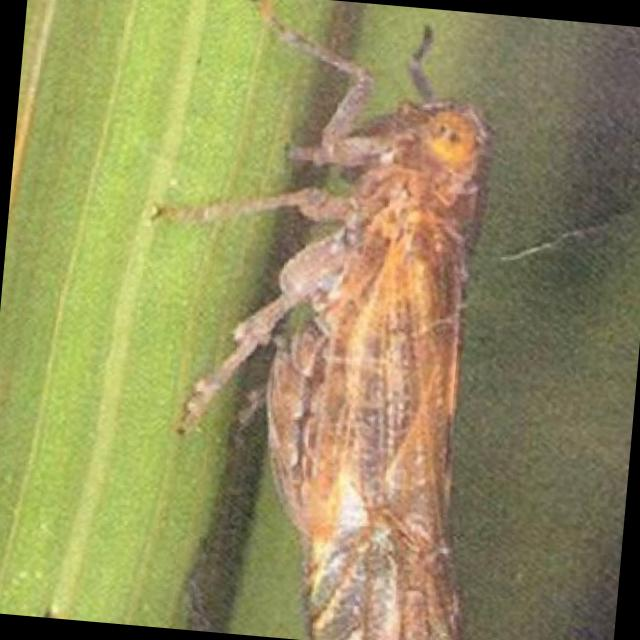brown-planthopper: (246, 78, 502, 640)
